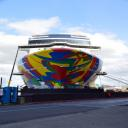cruises: (16, 33, 107, 97)
